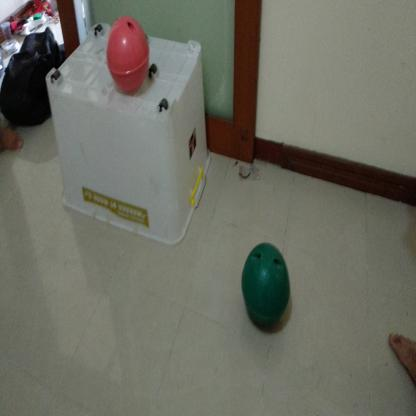green_buoy: (238, 240, 293, 336)
red_buoy: (105, 13, 151, 98)
